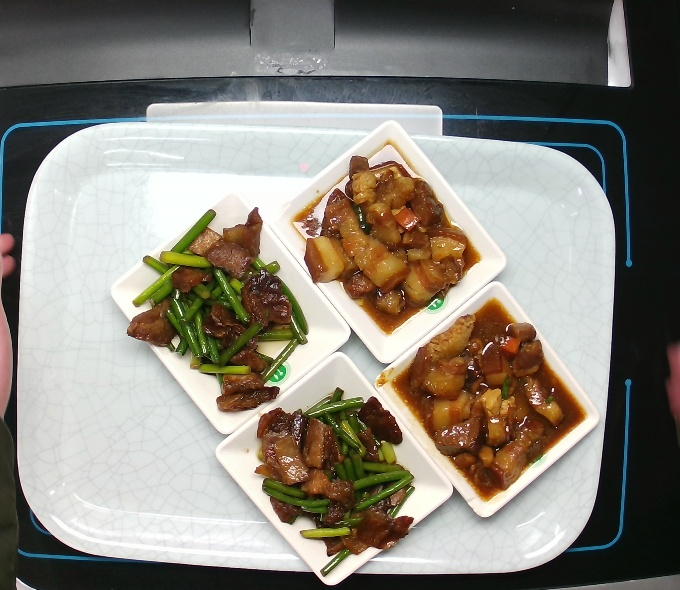wcq-HongShaoRou: (398, 305, 566, 495), (304, 150, 482, 321)
wcq-SuanMiaoChaoRou: (135, 203, 309, 420), (255, 376, 419, 572)
